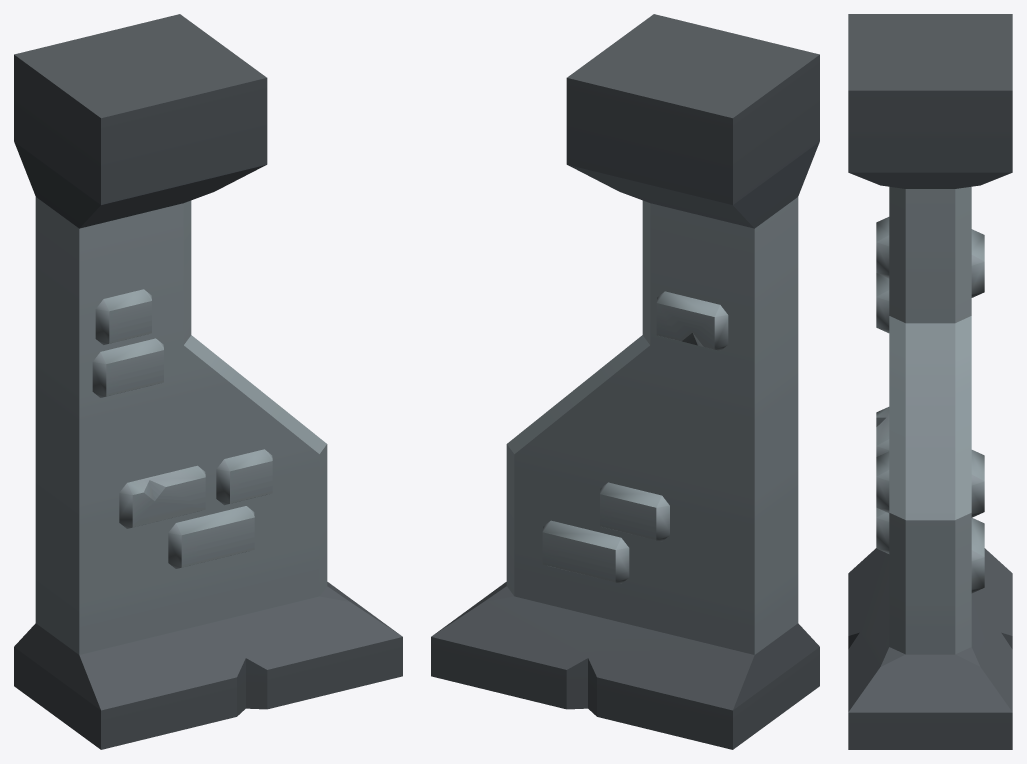
The model's file is wall_half_endcap_sloped.glb.
The picture shows the model from 3 angles, left to right: view 1: azimuth 30°, elevation 25°; view 2: azimuth 150°, elevation 25°; view 3: azimuth 270°, elevation 25°; orthographic projection. The views are drawn at different scales.
Visible parts, largest first — view 1: wall_half_endcap_sloped; view 2: wall_half_endcap_sloped; view 3: wall_half_endcap_sloped.
Boxes of the visible parts, box(x1,y1,x2,y2) form: wall_half_endcap_sloped: box(14, 14, 402, 749); wall_half_endcap_sloped: box(431, 14, 819, 749); wall_half_endcap_sloped: box(848, 14, 1012, 749).
Size of the model in its own units: 2 by 4 by 1.
Materials: 1 (1 with a texture image).
